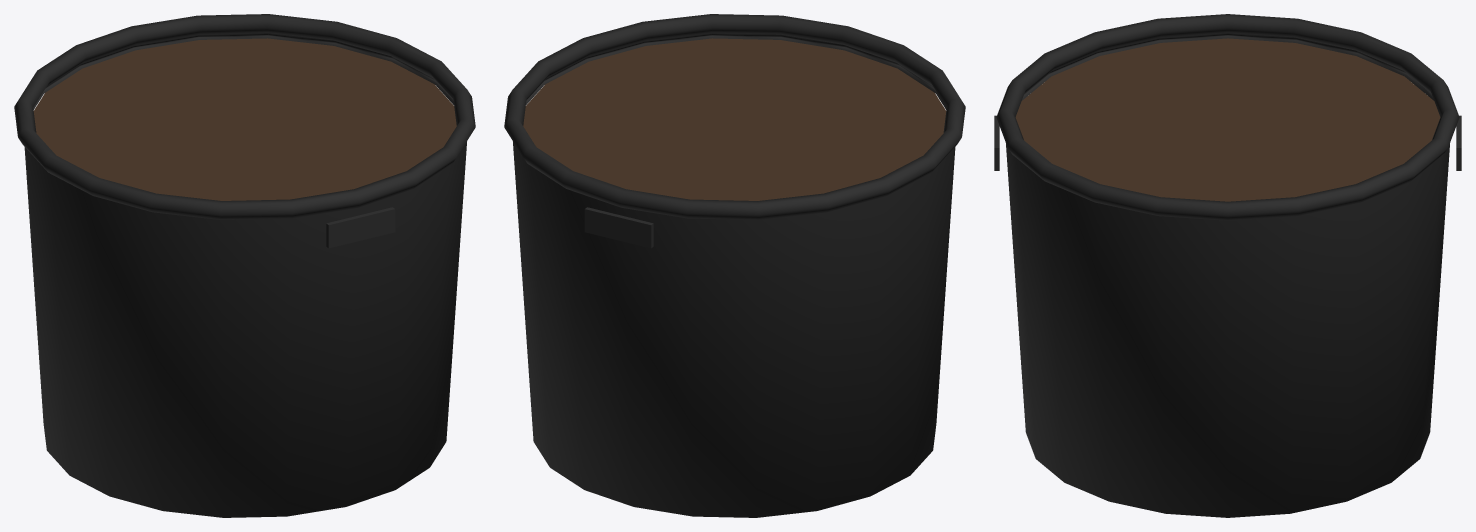
The model's file is pot-family--7gal.glb.
3 views of the same model, side by side, from view 1: azimuth 30°, elevation 25°; view 2: azimuth 150°, elevation 25°; view 3: azimuth 270°, elevation 25° (orthographic).
Parts seen in each view (by area): view 1: pot_body, soil_surface, pot_rim, pot_handles; view 2: pot_body, soil_surface, pot_rim, pot_handles; view 3: pot_body, soil_surface, pot_rim, pot_handles.
Boxes of the visible parts, left/top/right/bottom form: pot_body: left=24, top=33, right=466, bottom=517; soil_surface: left=33, top=38, right=456, bottom=200; pot_rim: left=14, top=14, right=475, bottom=219; pot_handles: left=326, top=207, right=395, bottom=248; pot_body: left=513, top=33, right=955, bottom=517; soil_surface: left=523, top=38, right=946, bottom=200; pot_rim: left=504, top=14, right=965, bottom=219; pot_handles: left=584, top=207, right=653, bottom=248; pot_body: left=1006, top=33, right=1449, bottom=517; soil_surface: left=1015, top=38, right=1440, bottom=201; pot_rim: left=996, top=14, right=1459, bottom=220; pot_handles: left=994, top=115, right=1461, bottom=170.
Size of the model in its own units: 0.363 by 0.279 by 0.366.
